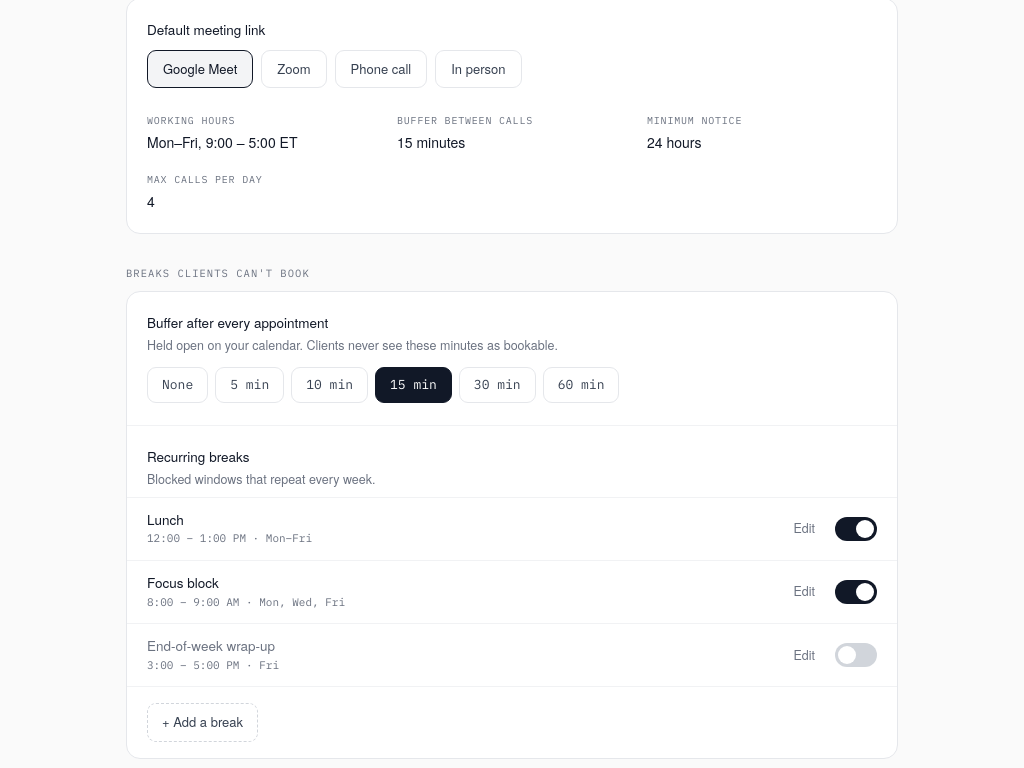
Test: SettingsPage › reflects the buffer selection in the hours summary
(page scrolled)
Expected: the text "15 minutes" is shown, [397,132,465,152]
Click the radio button labelled "60 min".
click(581, 385)  # box [543,367,620,403]
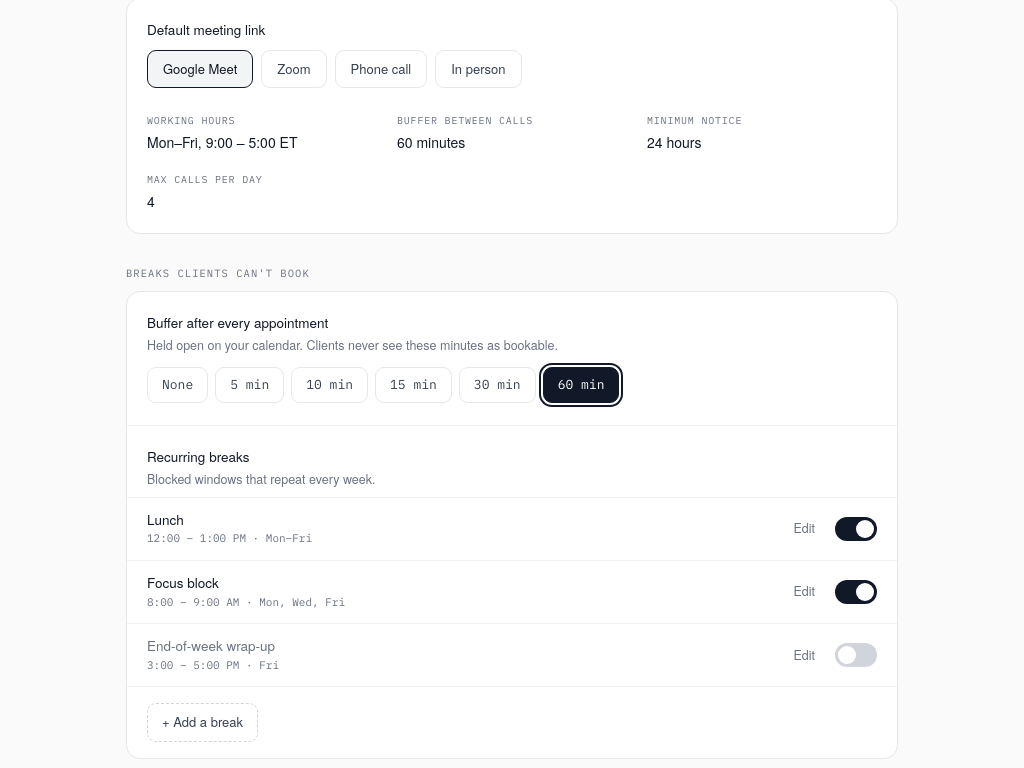
Now the text "60 minutes" is shown, box [397,132,465,152]
Click the radio button labelled "None".
click(178, 385)  # box [147,367,208,403]
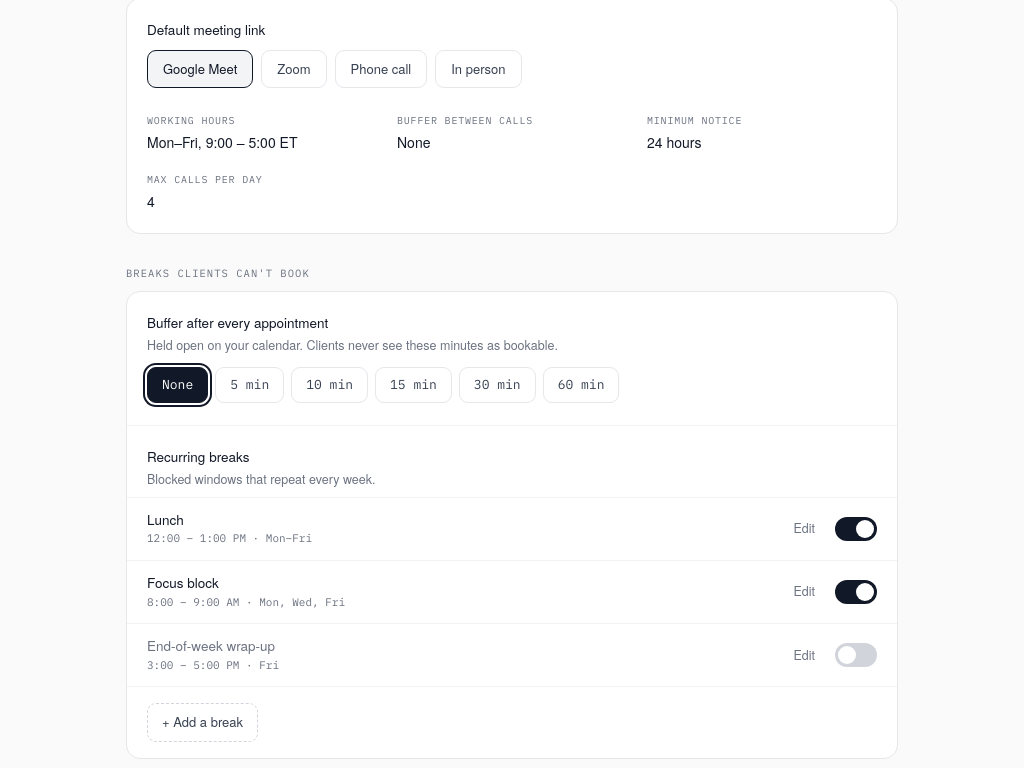
Now the text "None" is shown, box [397,132,430,152]
